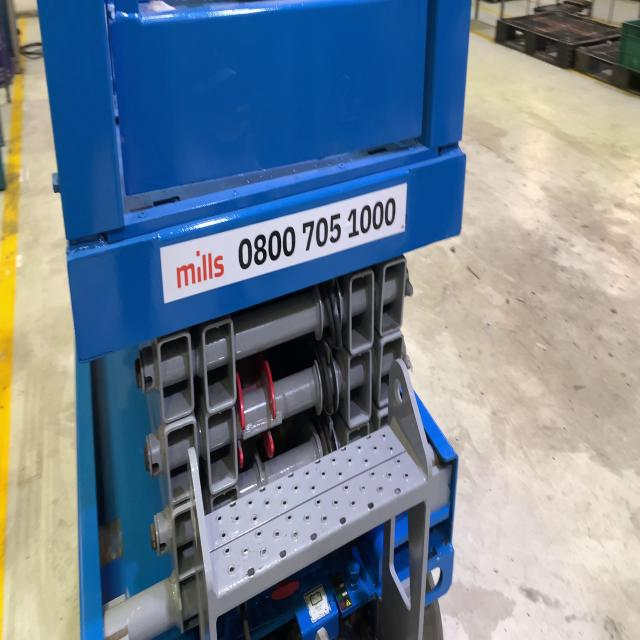Adesivo Longo: (158, 180, 408, 312)
